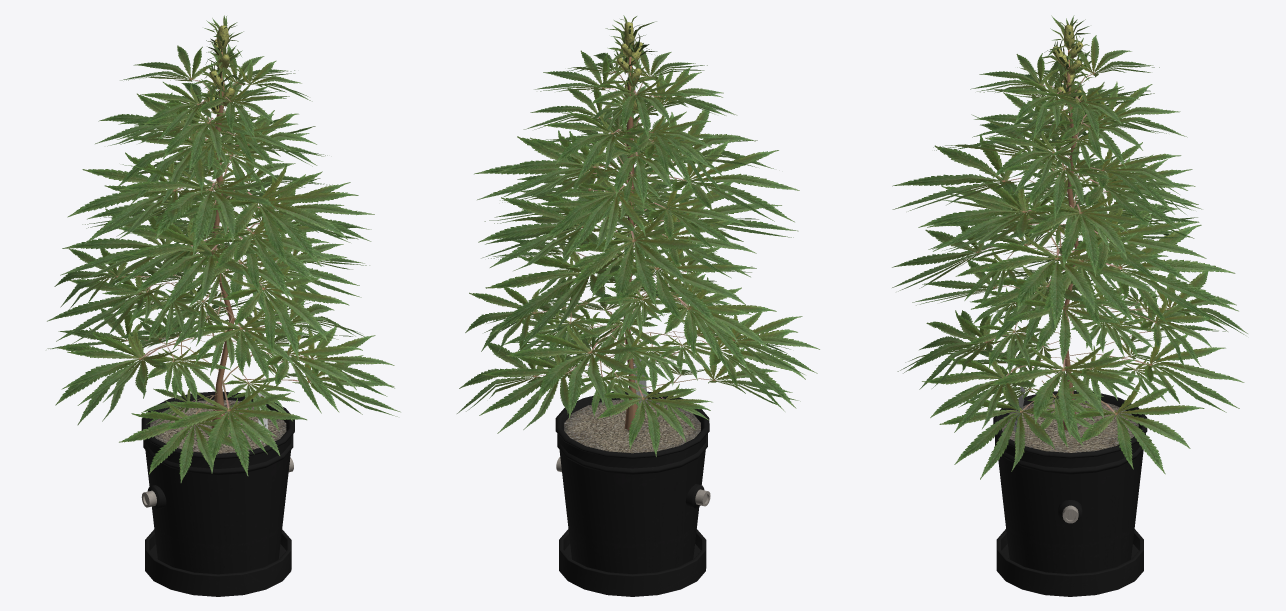
The model's file is Weed Plant Medium_b.fbx.
3 views of the same model, side by side, from view 1: azimuth 30°, elevation 25°; view 2: azimuth 150°, elevation 25°; view 3: azimuth 270°, elevation 25° (orthographic).
Visible parts, largest first — view 1: Weed Plant Medium_b; view 2: Weed Plant Medium_b; view 3: Weed Plant Medium_b.
Boxes of the visible parts, <box> form: Weed Plant Medium_b: <box>47,15,400,596</box>; Weed Plant Medium_b: <box>457,15,819,596</box>; Weed Plant Medium_b: <box>892,15,1247,596</box>.
Bounding box in the file's own units: 122 × 179 × 118.
